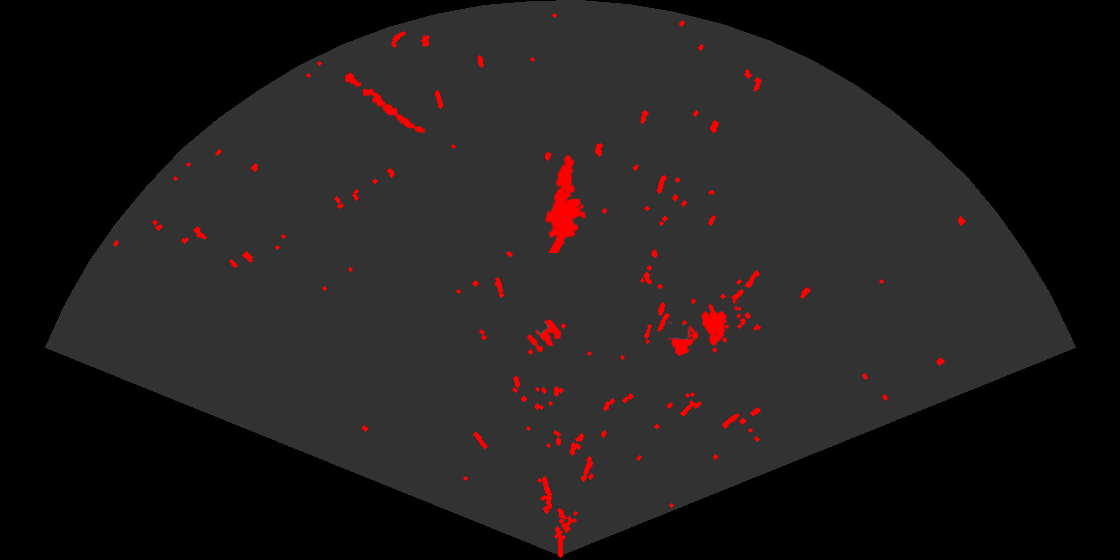ball: (525, 318, 563, 354)
cage: (667, 299, 741, 358)
chain: (343, 71, 427, 135)
frogman: (543, 153, 588, 253)
